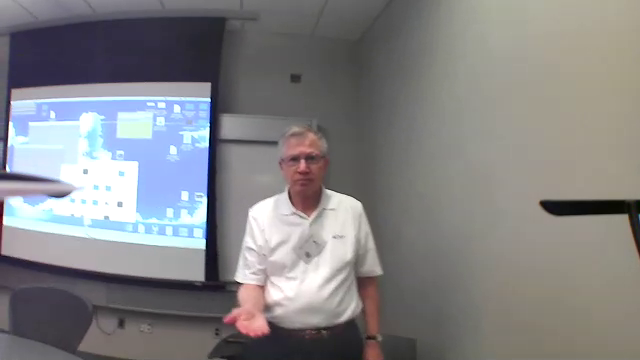land: (217, 301, 279, 338)
